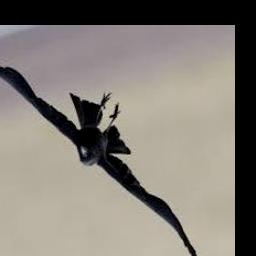Crow: (0, 61, 201, 256)
